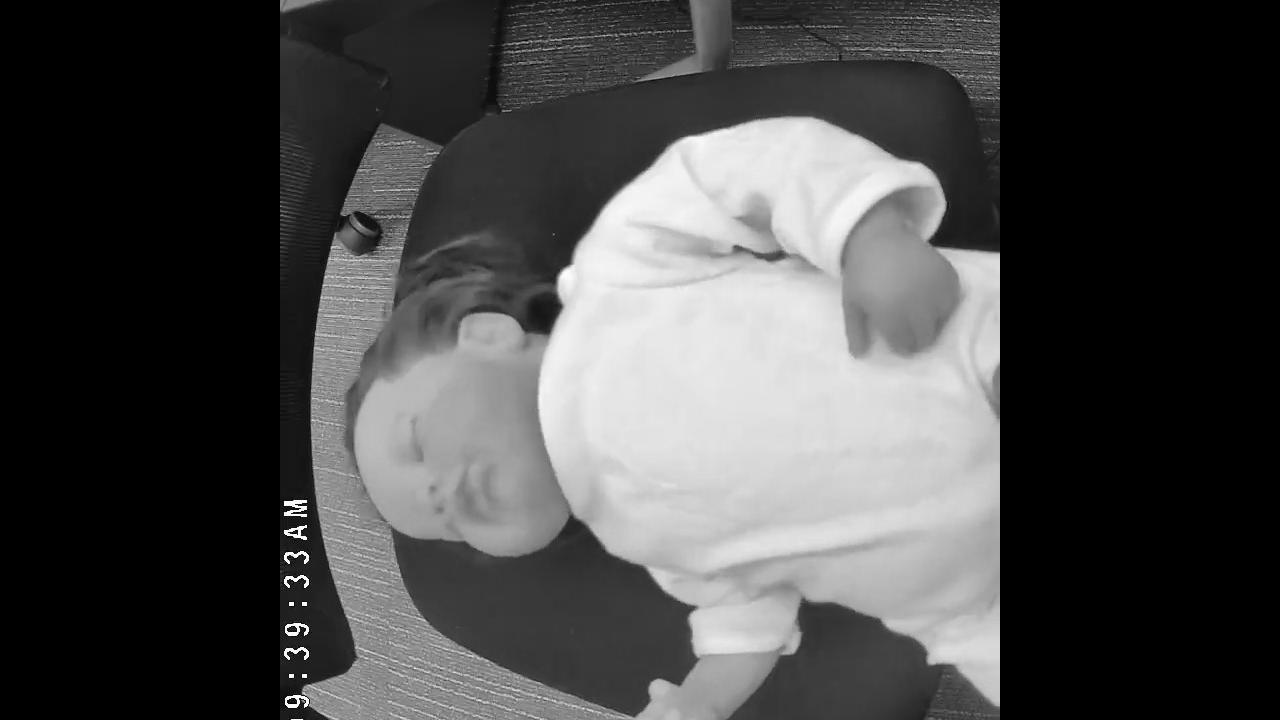hand: (839, 241, 958, 362), (628, 676, 719, 720)
